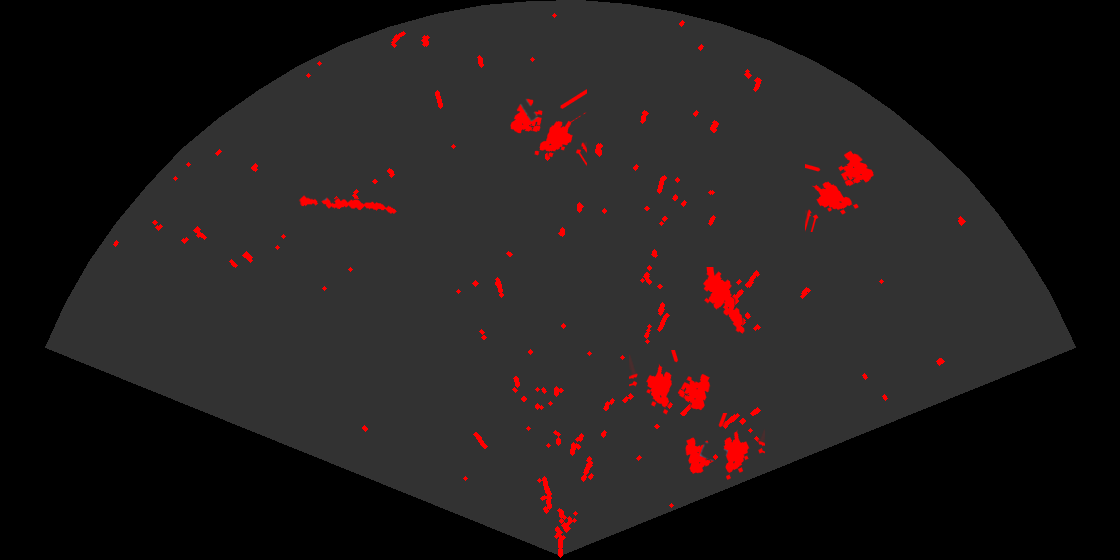cage: (509, 88, 587, 167), (805, 149, 875, 232), (684, 413, 765, 481), (629, 350, 712, 416)
chain: (298, 194, 398, 215)
frogman: (702, 267, 746, 335)
